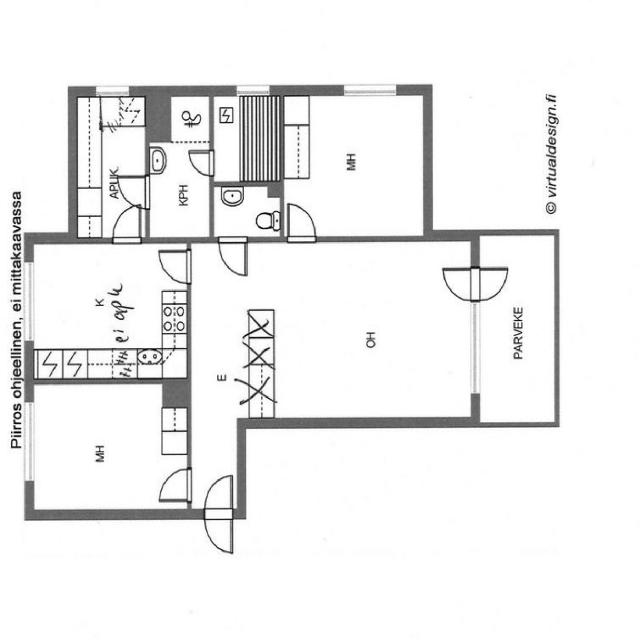door: (199, 470, 238, 560), (437, 263, 510, 302), (150, 467, 197, 505), (113, 173, 152, 216), (156, 244, 193, 285), (217, 235, 250, 280), (110, 204, 144, 244), (286, 200, 318, 241), (186, 146, 218, 179)
window: (18, 394, 40, 492), (467, 302, 484, 401), (22, 259, 39, 347), (338, 79, 402, 101), (230, 82, 273, 98), (94, 85, 136, 98)
zone: (262, 241, 476, 422), (30, 238, 190, 380), (281, 92, 427, 241), (27, 382, 189, 516), (478, 232, 556, 430), (74, 96, 146, 238), (148, 90, 212, 244), (211, 92, 283, 184), (212, 185, 282, 241), (200, 471, 237, 559), (150, 465, 198, 505)
